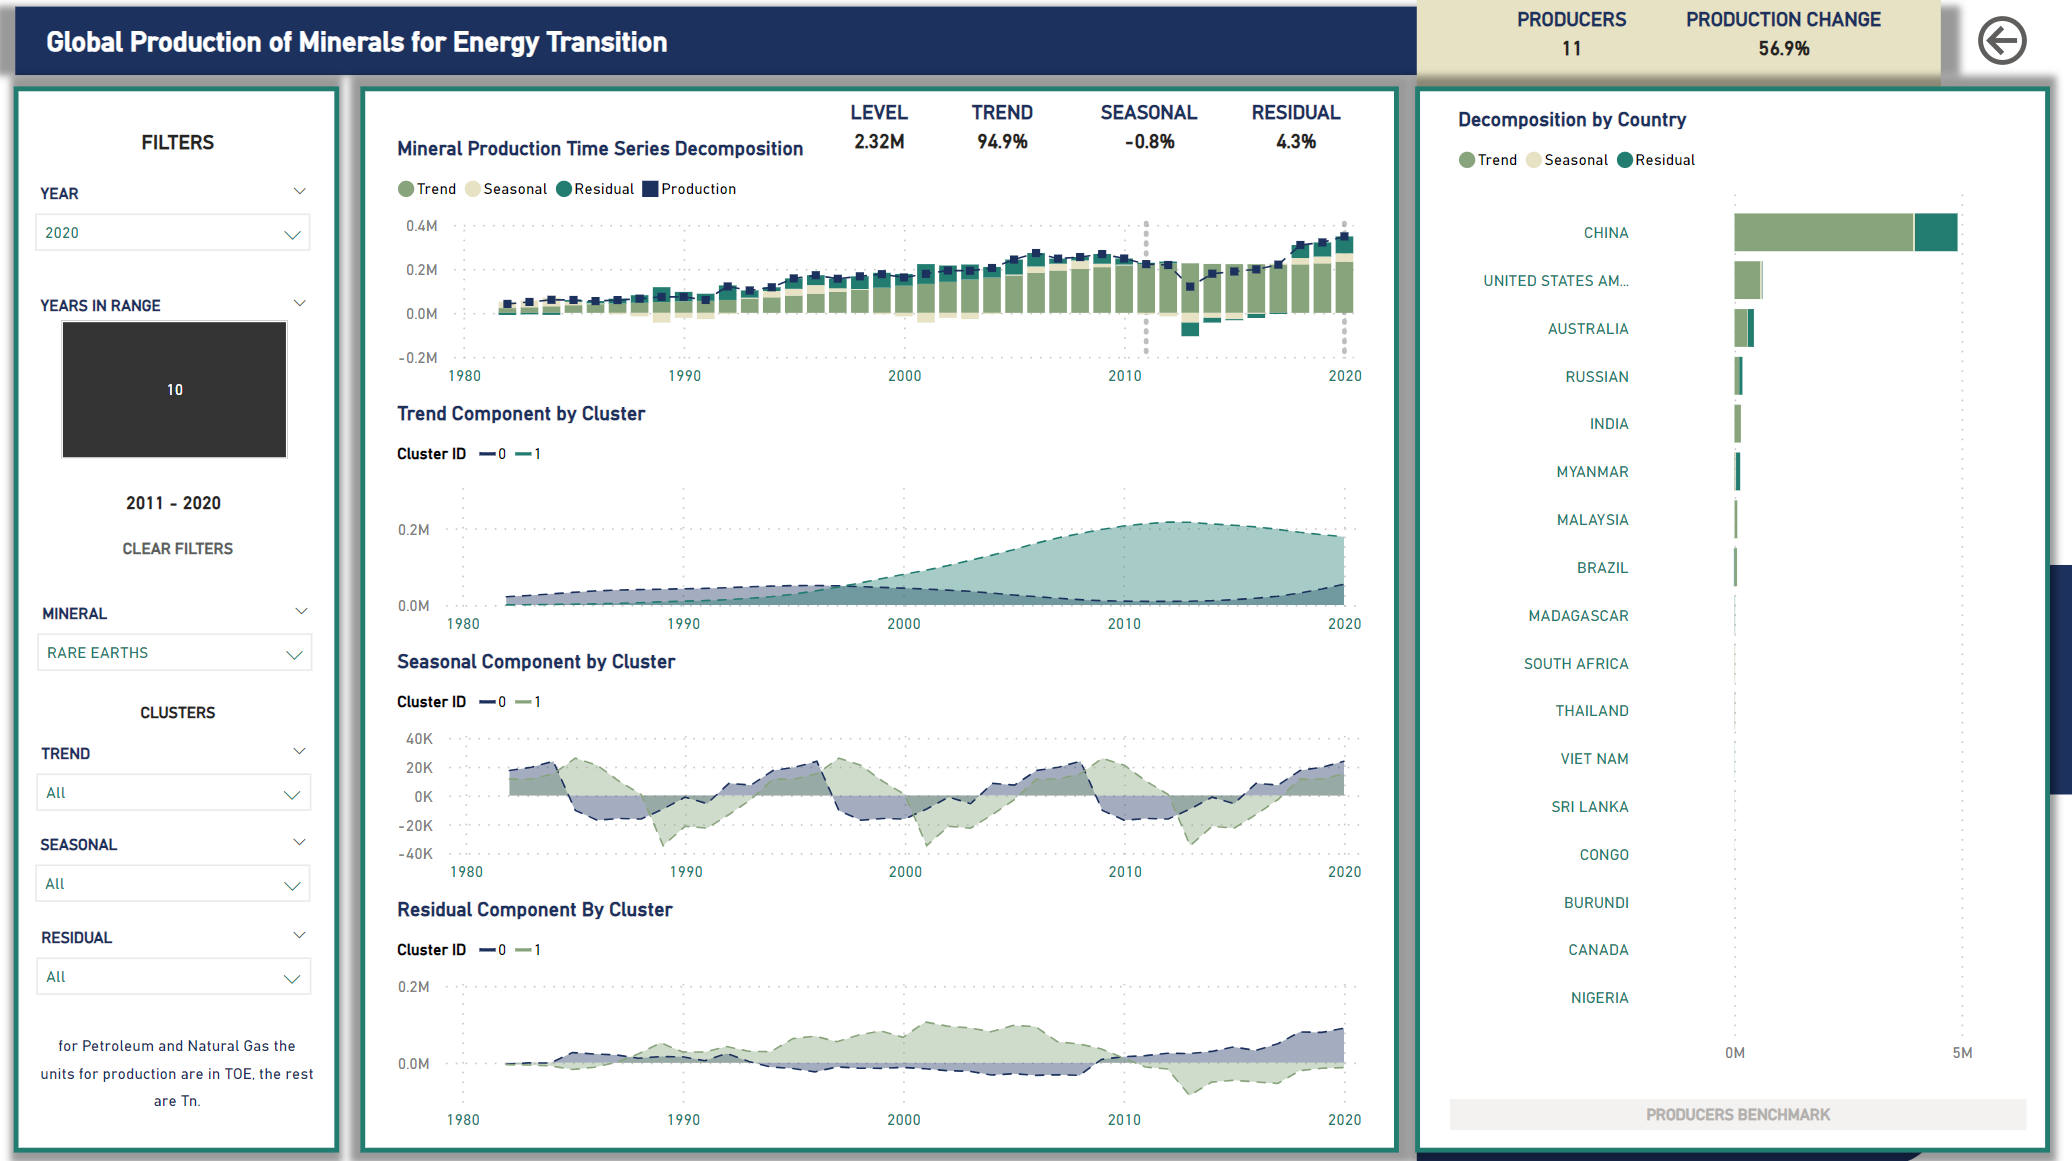

What the dashboard file says about the page in this screenshot:
{"tool":"powerbi","page":{"name":"02.Production","canvas":[1280,720],"ordinal":5},"visuals":[{"type":"card","title":"TREND","fields":{"Values":["_measures.tsd_trend_contrib"]},"box":[577.5,65.8,90.2,39.9],"z":0},{"type":"card","title":"SEASONAL","fields":{"Values":["_measures.tsd_seasonal_contrib"]},"box":[667.7,65.8,90.2,39.9],"z":1000},{"type":"card","title":"RESIDUAL","fields":{"Values":["_measures.tsd_resid_cointrib"]},"box":[757.9,65.8,90.2,39.9],"z":2000},{"type":"slicer","fields":{"Values":["dim_mineral.mineral_desc"]},"box":[19.5,370,189.4,55.9],"z":3000},{"type":"areaChart","title":"Trend Component by Cluster","fields":{"Category":["dim_calendar.year"],"Y":["_measures.produced_by_country_trend"],"Series":["ft_cluster_countries.cluster_by_trend_dtw"]},"box":[245.5,250.7,602.7,149.4],"z":4000},{"type":"areaChart","title":"Seasonal Component by Cluster","fields":{"Category":["dim_calendar.year"],"Y":["_measures.produced_by_country_seasonal"],"Series":["ft_cluster_countries.cluster_by_seasonal_dtw"]},"box":[245.5,403,602.7,149.4],"z":5000},{"type":"areaChart","title":"Residual Component By Cluster","fields":{"Category":["dim_calendar.year"],"Y":["_measures.produced_by_country_residual"],"Series":["ft_cluster_countries.cluster_by_residual_dtw"]},"box":[245.5,555.3,602.7,149.4],"z":6000},{"type":"slicer","fields":{"Values":["ft_cluster_countries.cluster_by_trend_dtw"]},"box":[19.2,455.8,188.6,56.2],"z":7000},{"type":"slicer","fields":{"Values":["ft_cluster_countries.cluster_by_seasonal_dtw"]},"box":[18.5,512,189.3,56.9],"z":8000},{"type":"slicer","fields":{"Values":["ft_cluster_countries.cluster_by_residual_dtw"]},"box":[19.2,568.9,188.6,56.2],"z":9000},{"type":"slicer","fields":{"Values":["tparam_yearsWindow.years"]},"box":[18.5,180.5,189.4,112.5],"z":10000},{"type":"card","title":"TREND","fields":{"Values":["_measures.aux_txt_cont_years"]},"box":[19.2,300.4,188.7,25.9],"z":11000},{"type":"slicer","fields":{"Values":["slicer_year_param.Value"]},"box":[18.5,111.7,189.4,56.2],"z":12000},{"type":"actionButton","box":[1217.1,8.9,44.4,39.9],"z":13000},{"type":"lineStackedColumnComboChart","title":"Mineral Production Time Series Decomposition","fields":{"Category":["dim_calendar.year"],"Y2":["_measures.produced_by_country_level"],"Y":["_measures.produced_by_country_trend","_measures.produced_by_country_seasonal","_measures.produced_by_country_residual"]},"box":[245.5,88,602.7,159.7],"z":14000},{"type":"textbox","box":[23.7,425.9,184.1,29.6],"z":15000},{"type":"textbox","box":[23.7,76.2,184.1,29.6],"z":16000},{"type":"actionButton","box":[27,328.3,177.9,21.6],"z":17000},{"type":"card","title":"PRODUCERS","fields":{"Values":["_measures.q_producer_countries_in_range"]},"box":[907.3,8.8,130.1,39.8],"z":18000},{"type":"card","title":"PRODUCTION CHANGE","fields":{"Values":["_measures.prod_change_in_range"]},"box":[1037.3,8.8,130.1,39.8],"z":19000},{"type":"barChart","title":"Decomposition by Country","fields":{"Category":["dim_country.country_desc"],"Y":["_measures.produced_by_country_trend","_measures.produced_by_country_seasonal","_measures.produced_by_country_residual"]},"box":[897.7,70.2,354.2,593.8],"z":20000},{"type":"textbox","box":[19.3,14.1,414.3,62.5],"z":21000},{"type":"actionButton","box":[897.7,678.8,354.2,19.2],"z":22000},{"type":"textbox","box":[26.6,630,178.2,68],"z":23000},{"type":"card","title":"LEVEL","fields":{"Values":["_measures.param_produc_prod"]},"box":[502.1,65.8,90.2,39.9],"z":24000}]}

Visuals, with their boxes in screenshot pixels (x1, y1, x2, y2), scaled from the page's 1280x720 canvas onto the 2072x1161 screenshot:
"TREND" card: l=935, t=106, r=1081, b=170
"SEASONAL" card: l=1081, t=106, r=1227, b=170
"RESIDUAL" card: l=1227, t=106, r=1373, b=170
slicer - dim_mineral.mineral_desc: l=32, t=597, r=338, b=687
"Trend Component by Cluster" areaChart: l=397, t=404, r=1373, b=645
"Seasonal Component by Cluster" areaChart: l=397, t=650, r=1373, b=891
"Residual Component By Cluster" areaChart: l=397, t=895, r=1373, b=1136
slicer - ft_cluster_countries.cluster_by_trend_dtw: l=31, t=735, r=336, b=826
slicer - ft_cluster_countries.cluster_by_seasonal_dtw: l=30, t=826, r=336, b=917
slicer - ft_cluster_countries.cluster_by_residual_dtw: l=31, t=917, r=336, b=1008
slicer - tparam_yearsWindow.years: l=30, t=291, r=337, b=472
"TREND" card: l=31, t=484, r=337, b=526
slicer - slicer_year_param.Value: l=30, t=180, r=337, b=271
actionButton: l=1970, t=14, r=2042, b=79
"Mineral Production Time Series Decomposition" lineStackedColumnComboChart: l=397, t=142, r=1373, b=399
textbox: l=38, t=687, r=336, b=734
textbox: l=38, t=123, r=336, b=171
actionButton: l=44, t=529, r=332, b=564
"PRODUCERS" card: l=1469, t=14, r=1679, b=78
"PRODUCTION CHANGE" card: l=1679, t=14, r=1890, b=78
"Decomposition by Country" barChart: l=1453, t=113, r=2027, b=1071
textbox: l=31, t=23, r=702, b=124
actionButton: l=1453, t=1095, r=2027, b=1126
textbox: l=43, t=1016, r=332, b=1126
"LEVEL" card: l=813, t=106, r=959, b=170
